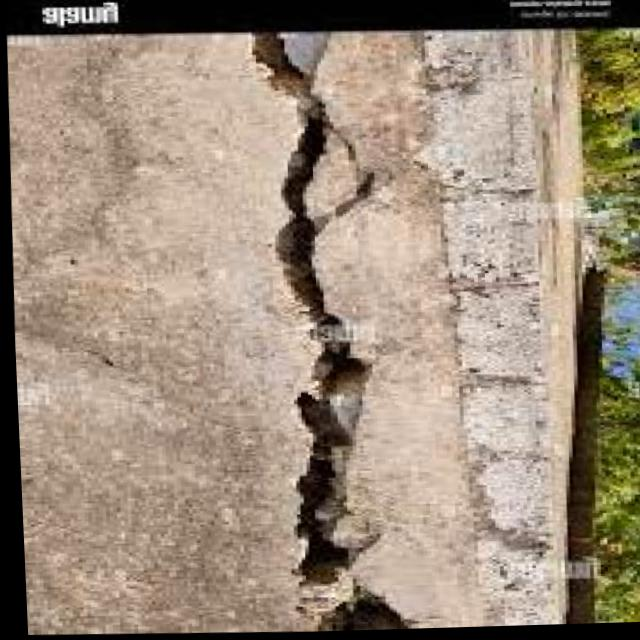Crack: (218, 32, 415, 634)
